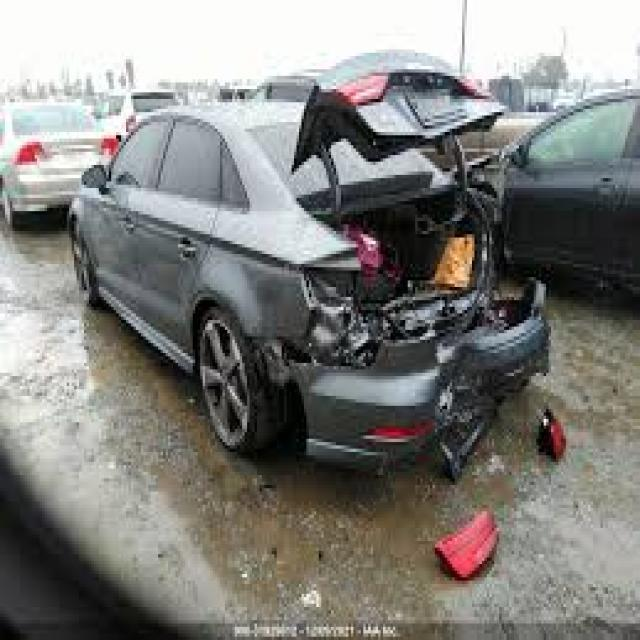damaged-trunk: (308, 190, 490, 340)
